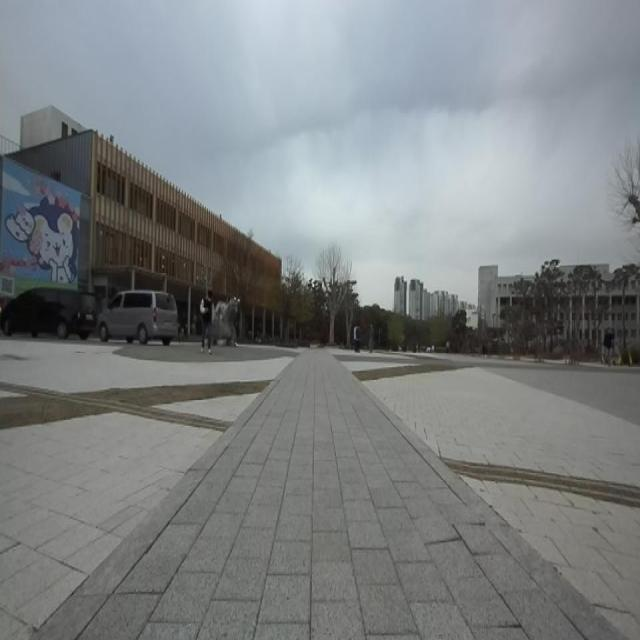sidewalk: (34, 353, 620, 639)
